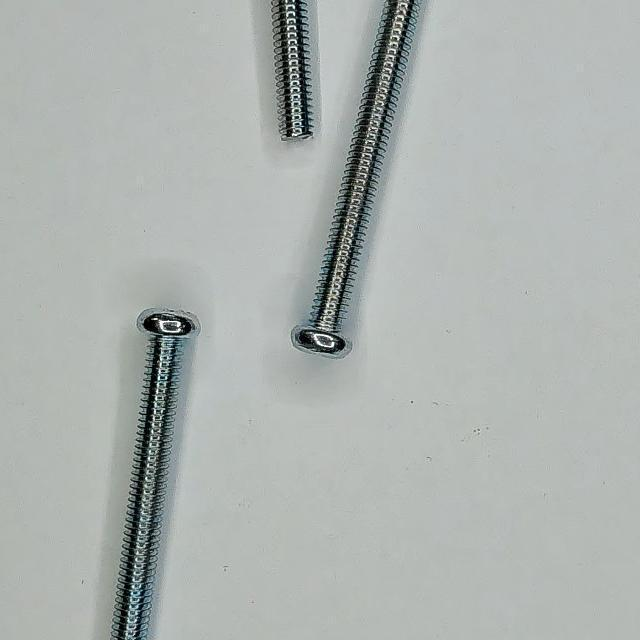Screw: (292, 0, 418, 356), (111, 308, 200, 640), (272, 0, 313, 139)
